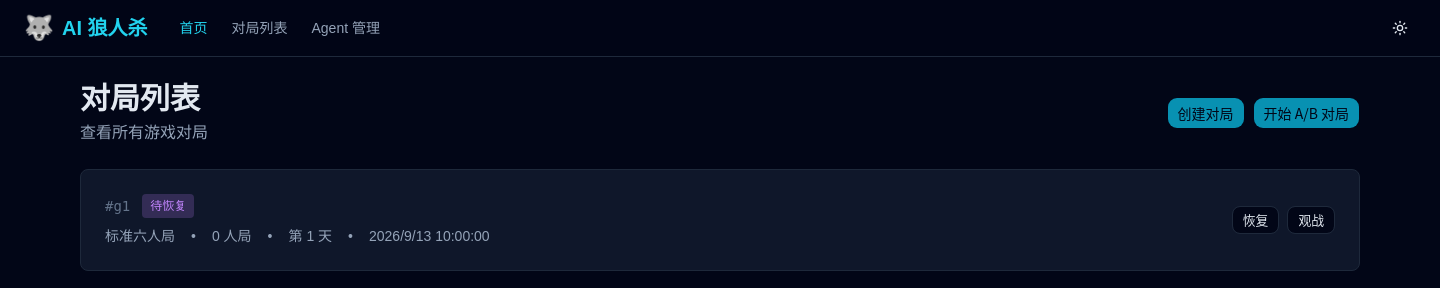
待恢复的对局可以就地恢复，成功后按最新状态刷新列表
Click the button "恢复".
click(1256, 220)  # box x1=1232 y1=206 x2=1279 y2=234
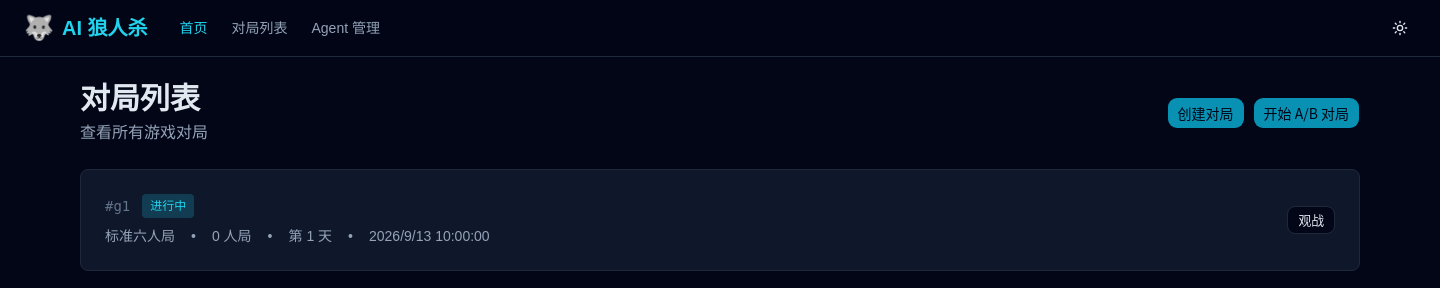
Check: the text "进行中" is shown, box x1=142 y1=194 x2=194 y2=218
Check: the text "恢复" is gone
